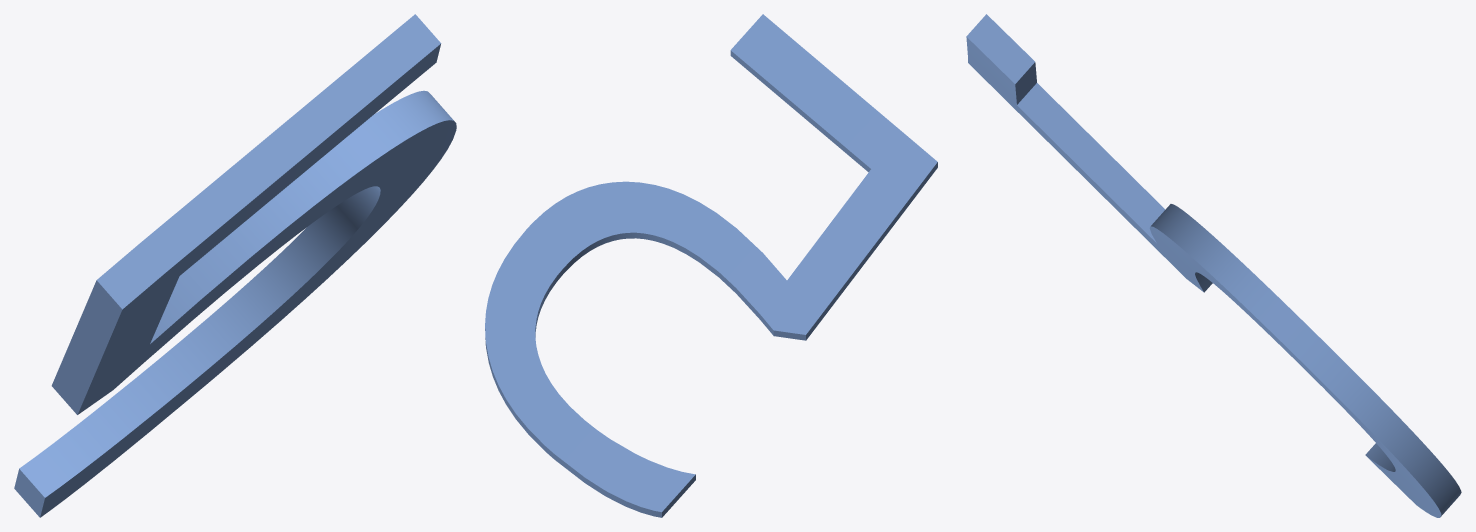
File: New_Number_5.gltf
The picture shows the model from 3 angles, left to right: view 1: azimuth 30°, elevation 25°; view 2: azimuth 150°, elevation 25°; view 3: azimuth 270°, elevation 25°; orthographic projection. The views are drawn at different scales.
Visible parts, largest first — view 1: Part 239; view 2: Part 239; view 3: Part 239.
Boxes of the visible parts, <box> form: Part 239: <box>14,14,456,517</box>; Part 239: <box>485,14,937,517</box>; Part 239: <box>966,14,1461,517</box>.
Bounding box in the file's own units: 0.00427 × 0.00489 × 0.00416.
